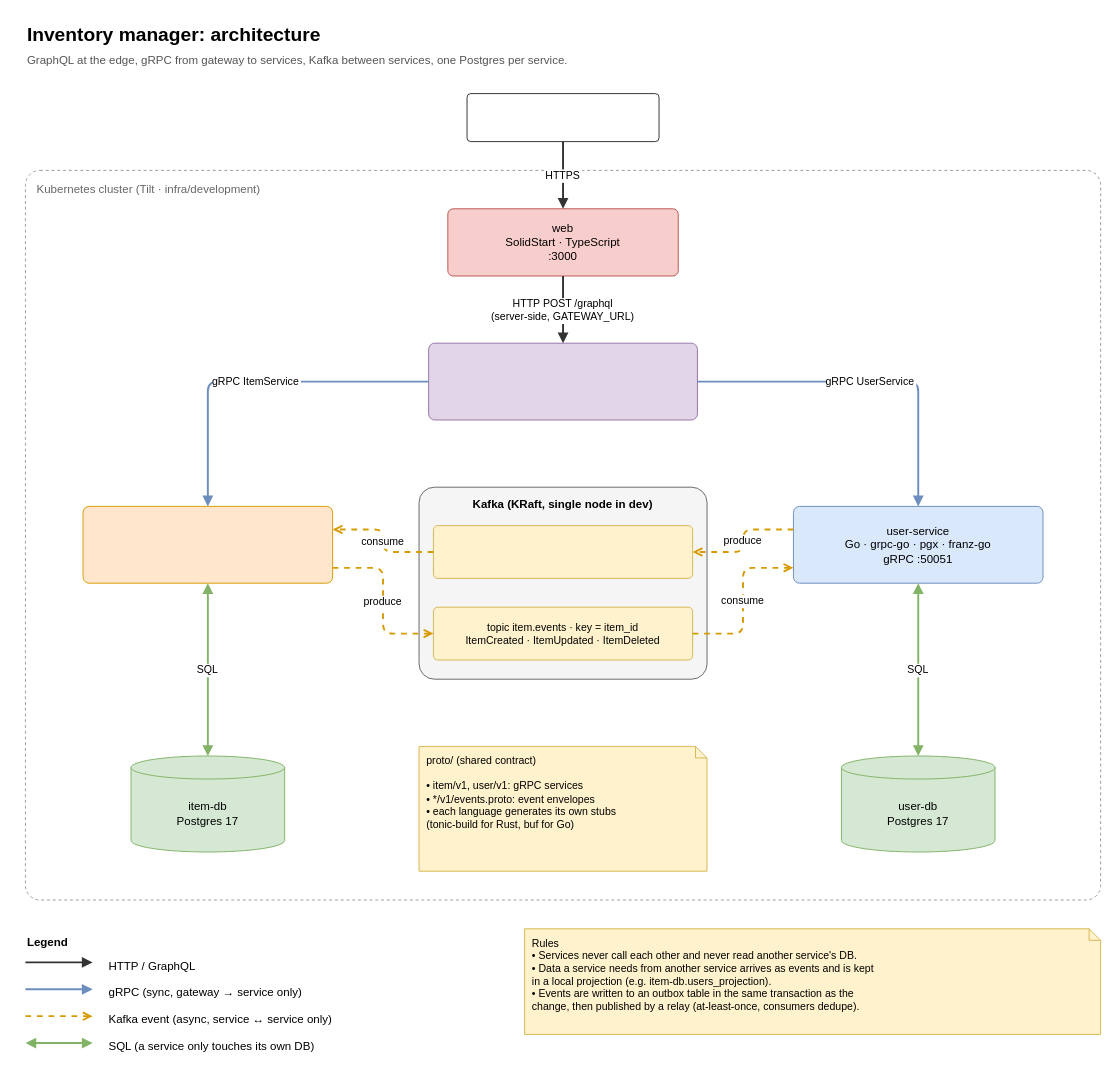
Some shapes in this 1117 by 1069 pixel diagram are drawn without their labels. Each missing label, with the centre of its shape:
"Browser" belongs at point 562,117.
"graphql-gateway Go · gqlgen + net/http + grpc-go :4000 (no DB, no Kafka)" belongs at point 562,381.
"item-service Rust · tonic · sqlx · rdkafka gRPC :50051" belongs at point 207,544.
"topic user.events · key = user_id UserCreated · UserUpdated · UserDeleted" belongs at point 562,551.
